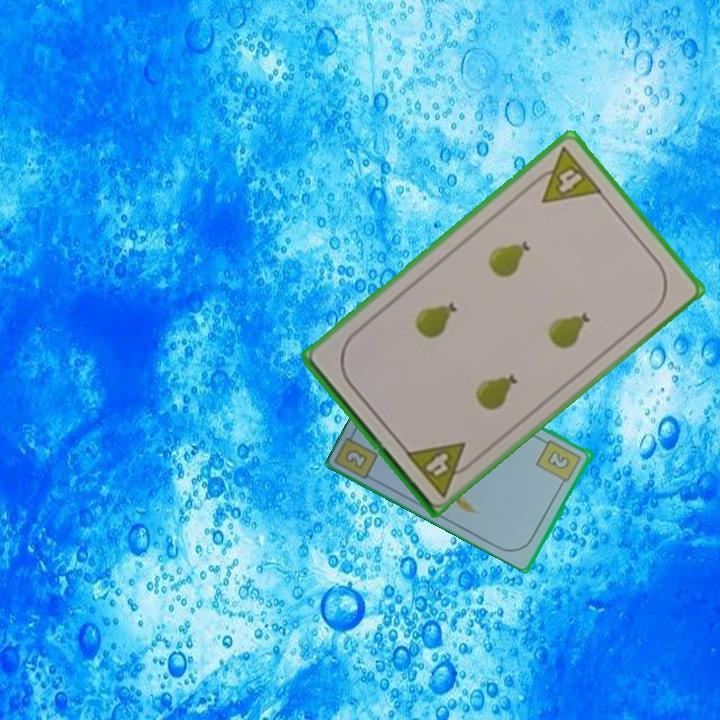2b: (533, 436, 584, 489), (344, 448, 368, 470)
4p: (525, 143, 605, 206), (401, 437, 480, 500)
